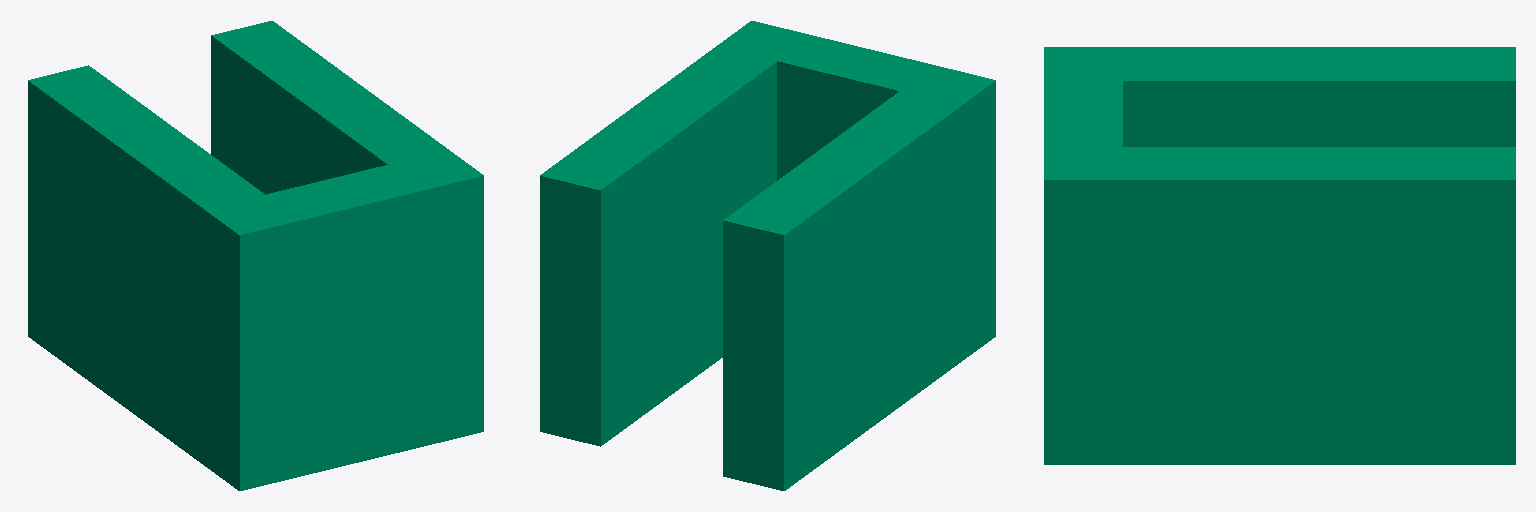
URDF robot description (ur10e_with_gripper):
<?xml version="1.0" encoding="utf-8"?>
<!-- =================================================================================== -->
<!-- |    This document was autogenerated by xacro from ur10e_with_gripper.xacro       | -->
<!-- |    EDITING THIS FILE BY HAND IS NOT RECOMMENDED                                 | -->
<!-- =================================================================================== -->
<robot name="ur10e_with_gripper">
  <!--
  Author: [author]
  Contributers: [author], [author], [author]
-->
  <link name="base_link">
    <visual>
      <geometry>
        <mesh filename="package://ur_e_description/meshes/ur10e/visual/base.dae"/>
      </geometry>
      <material name="LightGrey">
        <color rgba="0.7 0.7 0.7 1.0"/>
      </material>
    </visual>
    <collision>
      <geometry>
        <mesh filename="package://ur_e_description/meshes/ur10e/collision/base.stl"/>
      </geometry>
    </collision>
    <inertial>
      <mass value="4.0"/>
      <origin rpy="0 0 0" xyz="0.0 0.0 0.0"/>
      <inertia ixx="0.0061063308908" ixy="0.0" ixz="0.0" iyy="0.0061063308908" iyz="0.0" izz="0.01125"/>
    </inertial>
  </link>
  <joint name="shoulder_pan_joint" type="revolute">
    <parent link="base_link"/>
    <child link="shoulder_link"/>
    <origin rpy="0.0 0.0 0.0" xyz="0.0 0.0 0.181"/>
    <axis xyz="0 0 1"/>
    <limit effort="330.0" lower="-3.14159265359" upper="3.14159265359" velocity="3.14"/>
    <dynamics damping="0.0" friction="0.0"/>
  </joint>
  <link name="shoulder_link">
    <visual>
      <geometry>
        <mesh filename="package://ur_e_description/meshes/ur10e/visual/shoulder.dae"/>
      </geometry>
      <material name="LightGrey">
        <color rgba="0.7 0.7 0.7 1.0"/>
      </material>
    </visual>
    <collision>
      <geometry>
        <mesh filename="package://ur_e_description/meshes/ur10e/collision/shoulder.stl"/>
      </geometry>
    </collision>
    <inertial>
      <mass value="7.778"/>
      <origin rpy="0 0 0" xyz="0.0 0.0 0.0"/>
      <inertia ixx="0.0314743125769" ixy="0.0" ixz="0.0" iyy="0.0314743125769" iyz="0.0" izz="0.021875625"/>
    </inertial>
  </link>
  <joint name="shoulder_lift_joint" type="revolute">
    <parent link="shoulder_link"/>
    <child link="upper_arm_link"/>
    <origin rpy="0.0 1.57079632679 0.0" xyz="0.0 0.176 0.0"/>
    <axis xyz="0 1 0"/>
    <limit effort="330.0" lower="-3.14159265359" upper="3.14159265359" velocity="3.14"/>
    <dynamics damping="0.0" friction="0.0"/>
  </joint>
  <link name="upper_arm_link">
    <visual>
      <geometry>
        <mesh filename="package://ur_e_description/meshes/ur10e/visual/upperarm.dae"/>
      </geometry>
      <material name="LightGrey">
        <color rgba="0.7 0.7 0.7 1.0"/>
      </material>
    </visual>
    <collision>
      <geometry>
        <mesh filename="package://ur_e_description/meshes/ur10e/collision/upperarm.stl"/>
      </geometry>
    </collision>
    <inertial>
      <mass value="12.93"/>
      <origin rpy="0 0 0" xyz="0.0 0.0 0.3065"/>
      <inertia ixx="0.42307374077" ixy="0.0" ixz="0.0" iyy="0.42307374077" iyz="0.0" izz="0.036365625"/>
    </inertial>
  </link>
  <joint name="elbow_joint" type="revolute">
    <parent link="upper_arm_link"/>
    <child link="forearm_link"/>
    <origin rpy="0.0 0.0 0.0" xyz="0.0 -0.137 0.613"/>
    <axis xyz="0 1 0"/>
    <limit effort="150.0" lower="-3.14159265359" upper="3.14159265359" velocity="3.14"/>
    <dynamics damping="0.0" friction="0.0"/>
  </joint>
  <link name="forearm_link">
    <visual>
      <geometry>
        <mesh filename="package://ur_e_description/meshes/ur10e/visual/forearm.dae"/>
      </geometry>
      <material name="LightGrey">
        <color rgba="0.7 0.7 0.7 1.0"/>
      </material>
    </visual>
    <collision>
      <geometry>
        <mesh filename="package://ur_e_description/meshes/ur10e/collision/forearm.stl"/>
      </geometry>
    </collision>
    <inertial>
      <mass value="3.87"/>
      <origin rpy="0 0 0" xyz="0.0 0.0 0.2855"/>
      <inertia ixx="0.110590365764" ixy="0.0" ixz="0.0" iyy="0.110590365764" iyz="0.0" izz="0.010884375"/>
    </inertial>
  </link>
  <joint name="wrist_1_joint" type="revolute">
    <parent link="forearm_link"/>
    <child link="wrist_1_link"/>
    <origin rpy="0.0 1.57079632679 0.0" xyz="0.0 0.0 0.571"/>
    <axis xyz="0 1 0"/>
    <limit effort="54.0" lower="-3.14159265359" upper="3.14159265359" velocity="6.28"/>
    <dynamics damping="0.0" friction="0.0"/>
  </joint>
  <link name="wrist_1_link">
    <visual>
      <geometry>
        <mesh filename="package://ur_e_description/meshes/ur10e/visual/wrist1.dae"/>
      </geometry>
      <material name="LightGrey">
        <color rgba="0.7 0.7 0.7 1.0"/>
      </material>
    </visual>
    <collision>
      <geometry>
        <mesh filename="package://ur_e_description/meshes/ur10e/collision/wrist1.stl"/>
      </geometry>
    </collision>
    <inertial>
      <mass value="1.96"/>
      <origin rpy="0 0 0" xyz="0.0 0.135 0.0"/>
      <inertia ixx="0.0051082479567" ixy="0.0" ixz="0.0" iyy="0.0051082479567" iyz="0.0" izz="0.0055125"/>
    </inertial>
  </link>
  <joint name="wrist_2_joint" type="revolute">
    <parent link="wrist_1_link"/>
    <child link="wrist_2_link"/>
    <origin rpy="0.0 0.0 0.0" xyz="0.0 0.135 0.0"/>
    <axis xyz="0 0 1"/>
    <limit effort="54.0" lower="-3.14159265359" upper="3.14159265359" velocity="6.28"/>
    <dynamics damping="0.0" friction="0.0"/>
  </joint>
  <link name="wrist_2_link">
    <visual>
      <geometry>
        <mesh filename="package://ur_e_description/meshes/ur10e/visual/wrist2.dae"/>
      </geometry>
      <material name="LightGrey">
        <color rgba="0.7 0.7 0.7 1.0"/>
      </material>
    </visual>
    <collision>
      <geometry>
        <mesh filename="package://ur_e_description/meshes/ur10e/collision/wrist2.stl"/>
      </geometry>
    </collision>
    <inertial>
      <mass value="1.96"/>
      <origin rpy="0 0 0" xyz="0.0 0.0 0.12"/>
      <inertia ixx="0.0051082479567" ixy="0.0" ixz="0.0" iyy="0.0051082479567" iyz="0.0" izz="0.0055125"/>
    </inertial>
  </link>
  <joint name="wrist_3_joint" type="revolute">
    <parent link="wrist_2_link"/>
    <child link="wrist_3_link"/>
    <origin rpy="0.0 0.0 0.0" xyz="0.0 0.0 0.12"/>
    <axis xyz="0 1 0"/>
    <limit effort="54.0" lower="-3.14159265359" upper="3.14159265359" velocity="6.28"/>
    <dynamics damping="0.0" friction="0.0"/>
  </joint>
  <link name="wrist_3_link">
    <visual>
      <geometry>
        <mesh filename="package://ur_e_description/meshes/ur10e/visual/wrist3.dae"/>
      </geometry>
      <material name="LightGrey">
        <color rgba="0.7 0.7 0.7 1.0"/>
      </material>
    </visual>
    <collision>
      <geometry>
        <mesh filename="package://ur_e_description/meshes/ur10e/collision/wrist3.stl"/>
      </geometry>
    </collision>
    <inertial>
      <mass value="0.202"/>
      <origin rpy="1.57079632679 0 0" xyz="0.0 0.092 0.0"/>
      <inertia ixx="0.000144345775595" ixy="0.0" ixz="0.0" iyy="0.000144345775595" iyz="0.0" izz="0.000204525"/>
    </inertial>
  </link>
  <joint name="ee_fixed_joint" type="fixed">
    <parent link="wrist_3_link"/>
    <child link="ee_link"/>
    <origin rpy="0.0 0.0 1.57079632679" xyz="0.0 0.117 0.0"/>
  </joint>
  <link name="ee_link">
    <collision>
      <geometry>
        <box size="0.01 0.01 0.01"/>
      </geometry>
      <origin rpy="0 0 0" xyz="-0.01 0 0"/>
    </collision>
  </link>
  <transmission name="shoulder_pan_trans">
    <type>transmission_interface/SimpleTransmission</type>
    <joint name="shoulder_pan_joint">
      <hardwareInterface>hardware_interface/PositionJointInterface</hardwareInterface>
    </joint>
    <actuator name="shoulder_pan_motor">
      <mechanicalReduction>1</mechanicalReduction>
    </actuator>
  </transmission>
  <transmission name="shoulder_lift_trans">
    <type>transmission_interface/SimpleTransmission</type>
    <joint name="shoulder_lift_joint">
      <hardwareInterface>hardware_interface/PositionJointInterface</hardwareInterface>
    </joint>
    <actuator name="shoulder_lift_motor">
      <mechanicalReduction>1</mechanicalReduction>
    </actuator>
  </transmission>
  <transmission name="elbow_trans">
    <type>transmission_interface/SimpleTransmission</type>
    <joint name="elbow_joint">
      <hardwareInterface>hardware_interface/PositionJointInterface</hardwareInterface>
    </joint>
    <actuator name="elbow_motor">
      <mechanicalReduction>1</mechanicalReduction>
    </actuator>
  </transmission>
  <transmission name="wrist_1_trans">
    <type>transmission_interface/SimpleTransmission</type>
    <joint name="wrist_1_joint">
      <hardwareInterface>hardware_interface/PositionJointInterface</hardwareInterface>
    </joint>
    <actuator name="wrist_1_motor">
      <mechanicalReduction>1</mechanicalReduction>
    </actuator>
  </transmission>
  <transmission name="wrist_2_trans">
    <type>transmission_interface/SimpleTransmission</type>
    <joint name="wrist_2_joint">
      <hardwareInterface>hardware_interface/PositionJointInterface</hardwareInterface>
    </joint>
    <actuator name="wrist_2_motor">
      <mechanicalReduction>1</mechanicalReduction>
    </actuator>
  </transmission>
  <transmission name="wrist_3_trans">
    <type>transmission_interface/SimpleTransmission</type>
    <joint name="wrist_3_joint">
      <hardwareInterface>hardware_interface/PositionJointInterface</hardwareInterface>
    </joint>
    <actuator name="wrist_3_motor">
      <mechanicalReduction>1</mechanicalReduction>
    </actuator>
  </transmission>
  <gazebo reference="shoulder_link">
    <selfCollide>true</selfCollide>
  </gazebo>
  <gazebo reference="upper_arm_link">
    <selfCollide>true</selfCollide>
  </gazebo>
  <gazebo reference="forearm_link">
    <selfCollide>true</selfCollide>
  </gazebo>
  <gazebo reference="wrist_1_link">
    <selfCollide>true</selfCollide>
  </gazebo>
  <gazebo reference="wrist_3_link">
    <selfCollide>true</selfCollide>
  </gazebo>
  <gazebo reference="wrist_2_link">
    <selfCollide>true</selfCollide>
  </gazebo>
  <gazebo reference="ee_link">
    <selfCollide>true</selfCollide>
  </gazebo>
  <!-- ROS base_link to UR 'Base' Coordinates transform -->
  <link name="base"/>
  <joint name="base_link-base_fixed_joint" type="fixed">
    <!-- NOTE: this rotation is only needed as long as base_link itself is
                 not corrected wrt the real robot (ie: rotated over 180
                 degrees)
      -->
    <origin rpy="0 0 -3.14159265359" xyz="0 0 0"/>
    <parent link="base_link"/>
    <child link="base"/>
  </joint>
  <!-- Frame coincident with all-zeros TCP on UR controller -->
  <link name="tool0"/>
  <joint name="wrist_3_link-tool0_fixed_joint" type="fixed">
    <origin rpy="-1.57079632679 0 0" xyz="0 0.117 0"/>
    <parent link="wrist_3_link"/>
    <child link="tool0"/>
  </joint>
  <!-- Create a fixed joint with a parameterized name. -->
  <joint name="gripper_joint" type="fixed">
    <!-- The parent link must be read from the robot model it is attached to. -->
    <parent link="tool0"/>
    <child link="gripper"/>
    <!-- The tool is directly attached to the flange. -->
    <origin rpy="0 0 0" xyz="0 0 0"/>
  </joint>
  <link name="gripper">
    <visual>
      <geometry>
        <!-- The path to the visual meshes in the package. -->
        <mesh filename="package://ur10_e_moveit_config/ur10e_with_gripper/meshes/visual/gripper.stl"/>
      </geometry>
    </visual>
    <collision>
      <geometry>
        <!-- The path to the collision meshes in the package. -->
        <mesh filename="package://ur10_e_moveit_config/ur10e_with_gripper/meshes/collision/gripper.stl"/>
      </geometry>
    </collision>
  </link>
  <!-- TCP frame -->
  <joint name="tcp_joint" type="fixed">
    <origin rpy="0 0 0" xyz="0 0 0.116"/>
    <parent link="gripper"/>
    <child link="tcp"/>
  </joint>
  <link name="tcp"/>
  <!-- define the ur5's position and orientation in the world coordinate system -->
  <link name="world"/>
  <joint name="world_joint" type="fixed">
    <parent link="world"/>
    <child link="base_link"/>
    <!-- TODO: check base_link name of robot -->
    <origin rpy="0.0 0.0 0.0" xyz="0.0 0.0 0.0"/>
  </joint>
</robot>

--- Facts derived from the render (not from the file) ---
3 views of the same robot in one strip: view 1: azimuth 30°, elevation 25°; view 2: azimuth 150°, elevation 25°; view 3: azimuth 270°, elevation 25° (orthographic).
Robot: ur10e_with_gripper — 13 links, 12 joints (6 revolute, 6 fixed); root link world; default pose: every joint at zero.
Links seen in each view (by area): view 1: gripper; view 2: gripper; view 3: gripper.
Link boxes in pixels (left/top/right/bottom): gripper: left=28, top=21, right=483, bottom=490; gripper: left=540, top=21, right=995, bottom=490; gripper: left=1044, top=47, right=1515, bottom=464.
Size in the robot's own frame: 0.2 by 0.3 by 0.2 metres.
1 mesh visuals loaded from 8 distinct referenced files (1 binary STL); not drawn: 7 (reference not matched to a file when rendering).